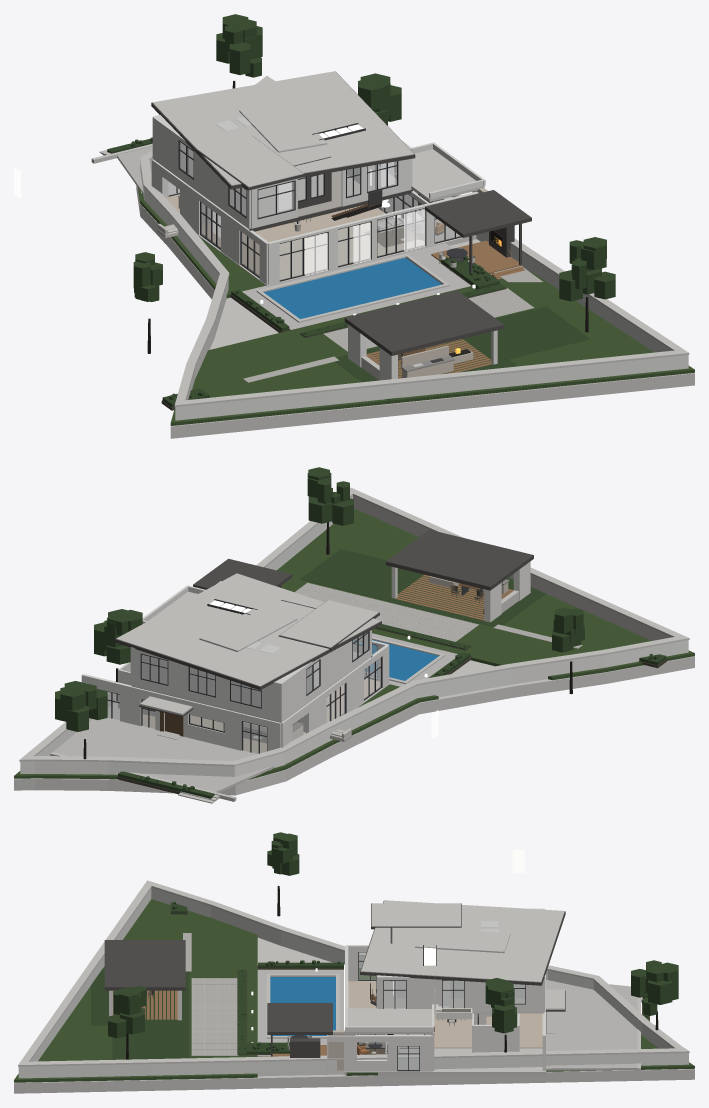
The model's file is modern-villa__BcYPbju.glb.
The picture shows the model from 3 angles, top to bottom: view 1: azimuth 30°, elevation 25°; view 2: azimuth 150°, elevation 25°; view 3: azimuth 270°, elevation 25°; orthographic projection. The views are drawn at different scales.
Visible parts, largest first — view 1: Site_Lawn_S, Roof_Main, SiteWall, Site_Ground, SiteWall_Cap, Pav_Roof_Fasc, Pool_Water, GF_Floor_Main, Court_Lawn, GF_W, Patio_Roof_Fasc, Roof_West (+33 smaller); view 2: SiteWall, Site_Lawn_S, Roof_Main, Site_Ground, SiteWall_Cap, North_Terrace, Pav_Roof_Fasc, GF_N, Path_Main, UF_N, Court_Lawn, GF_W (+24 smaller); view 3: SiteWall, Site_Lawn_S, Roof_Main, Site_Ground, SiteWall_Cap, North_Terrace, Pav_Roof_Fasc, Path_Main, GF_Floor_Main, UF_E, Court_Lawn, Roof_West (+30 smaller).
Boxes of the visible parts, x1,y1,x2,y2 form: Site_Lawn_S: (170,271,694,425); Roof_Main: (152,71,414,185); SiteWall: (140,159,688,420); Site_Ground: (136,185,694,438); SiteWall_Cap: (140,76,689,406); Pav_Roof_Fasc: (344,290,503,355); Pool_Water: (264,258,441,319); GF_Floor_Main: (166,194,423,279); Court_Lawn: (472,306,590,359); GF_W: (151,159,269,284); Patio_Roof_Fasc: (425,190,531,237); Roof_West: (197,135,303,187); SiteWall: (20,495,688,776); Site_Lawn_S: (277,508,694,680); Roof_Main: (116,573,380,686); Site_Ground: (14,656,694,795); SiteWall_Cap: (19,487,689,766); North_Terrace: (53,717,274,792); Pav_Roof_Fasc: (386,529,533,590); GF_N: (81,674,281,751); Path_Main: (295,583,477,641); UF_N: (131,647,281,721); Court_Lawn: (299,549,415,598); GF_W: (281,644,389,747); SiteWall: (18,887,688,1078); Site_Lawn_S: (14,899,257,1082); Roof_Main: (361,900,564,982); Site_Ground: (14,937,694,1093); SiteWall_Cap: (18,880,689,1066); North_Terrace: (546,980,637,1070); Pav_Roof_Fasc: (104,940,185,990); Path_Main: (192,978,238,1055); GF_Floor_Main: (348,981,542,1048); UF_E: (377,976,544,1012); Court_Lawn: (112,1023,189,1059); Roof_West: (371,903,460,926).
Size of the model in its own units: 35.34 by 8.06 by 54.01.
